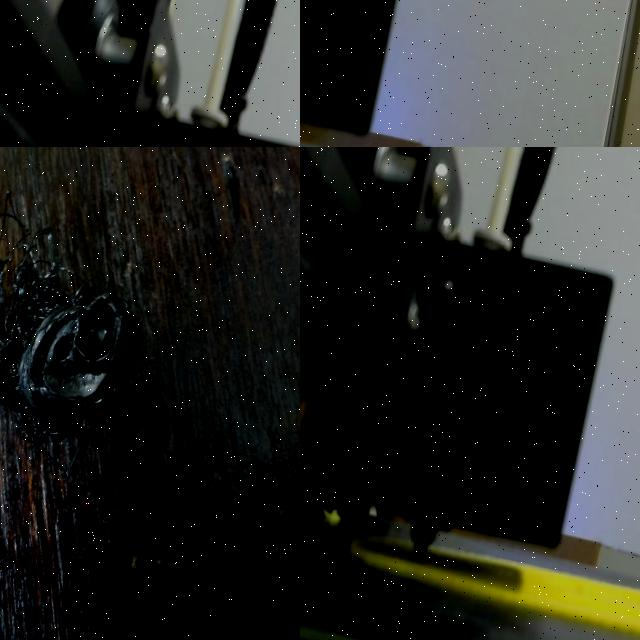spaghetti: (0, 186, 84, 455)
